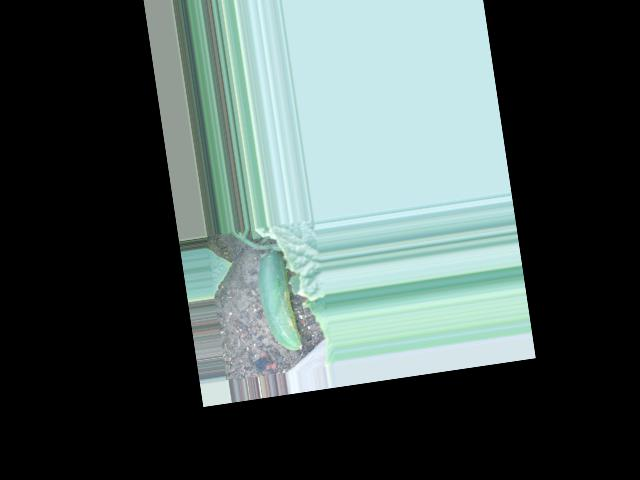cucumber: (254, 250, 303, 354)
